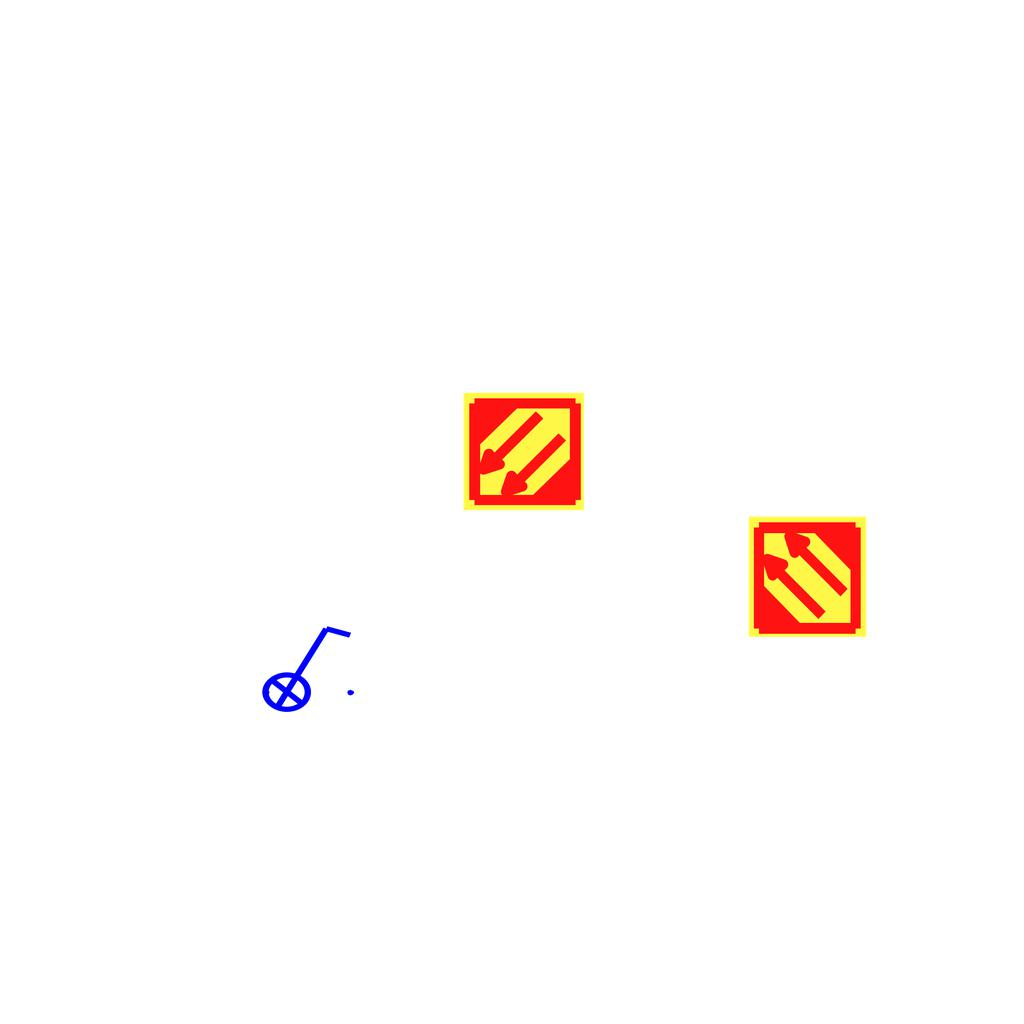ASR_Ansaugrauchmelder: (461, 389, 586, 514), (745, 514, 870, 639)
Ausschalter_beleuchtet: (248, 618, 360, 714)
